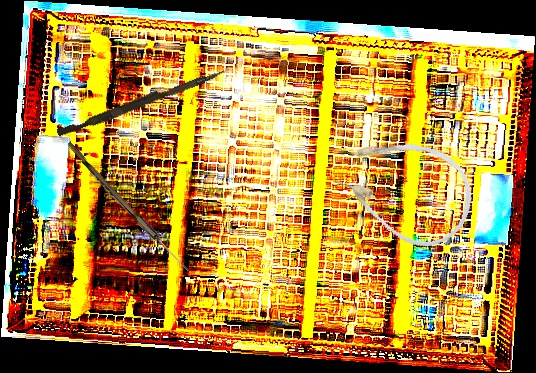Cannula: (321, 115, 488, 261)
Pusher: (56, 63, 226, 141)
Surgical Spoon: (63, 141, 193, 274)
